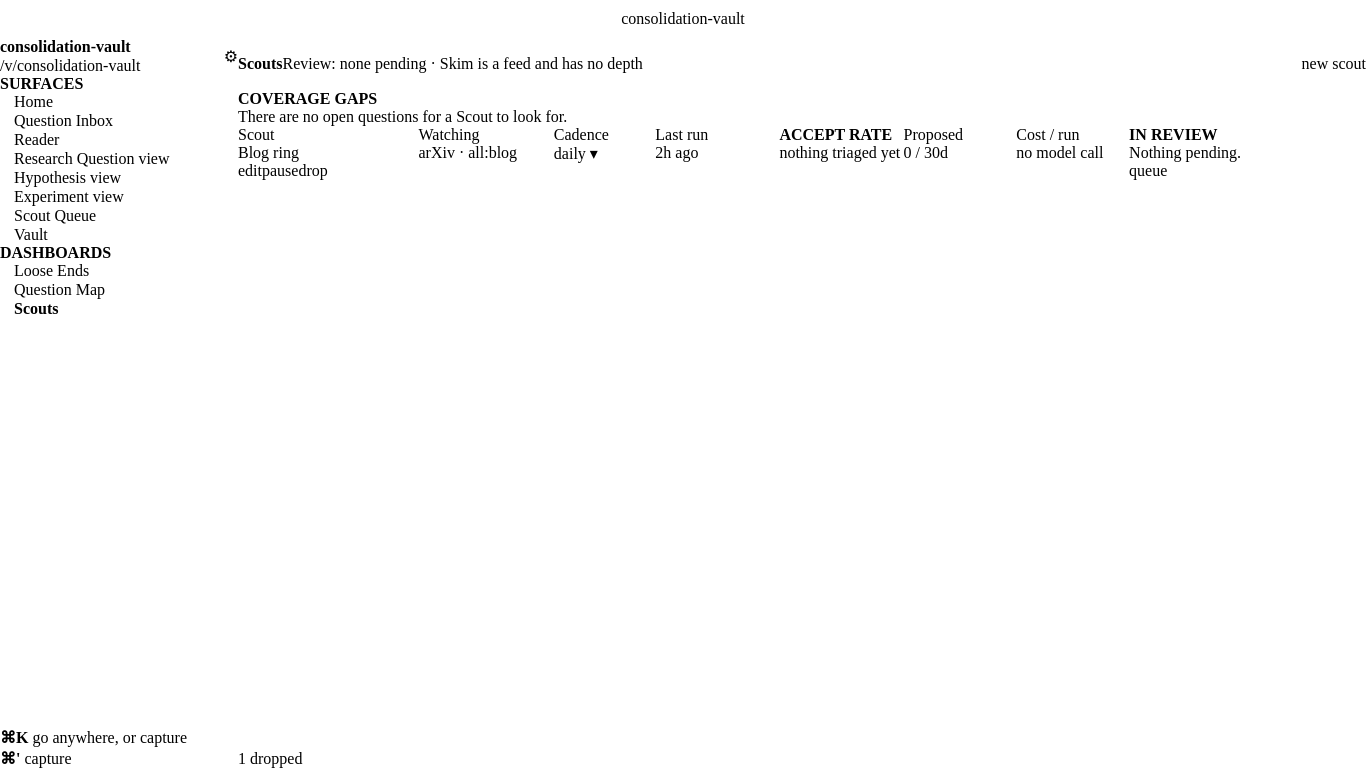
Test: Scouts screen — erase › says a failed write beside the Scout too, and still lists it
Expected: the table named "Scouts" is shown, [238,126,1365,180]
Click the button "1 dropped" at (270, 759), box [238,750,302,767]
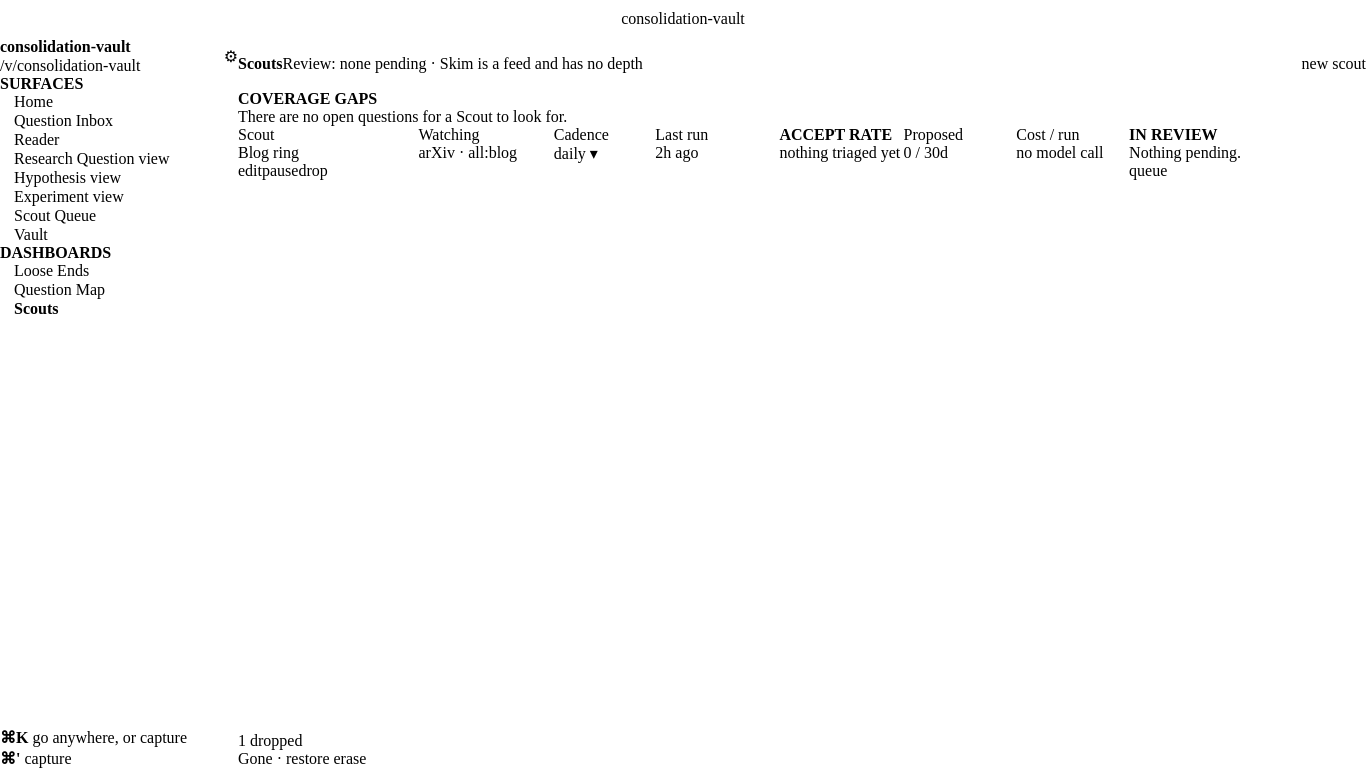
Click the button with aria-label "Gone: erase" at (350, 759), box [334,750,366,767]
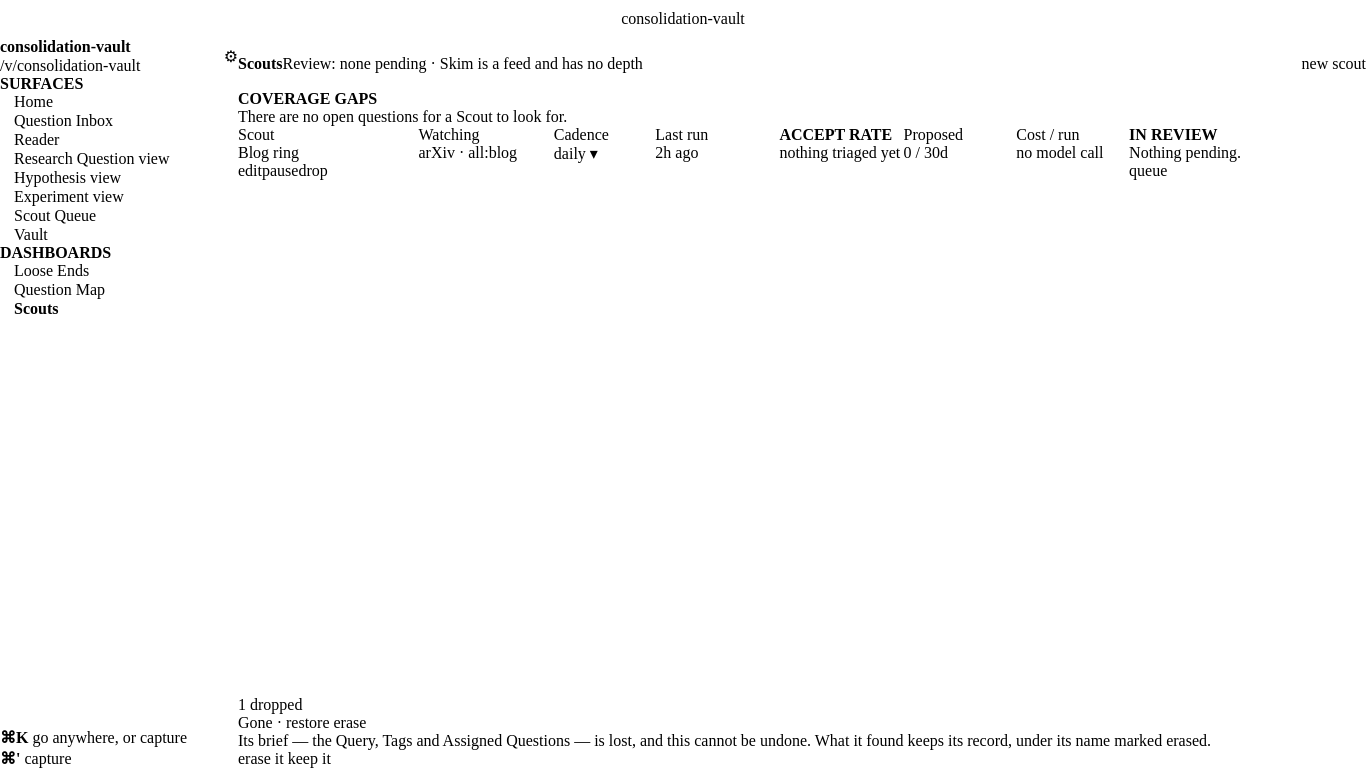
Click the button "erase it" at (261, 759), box [238,750,284,767]
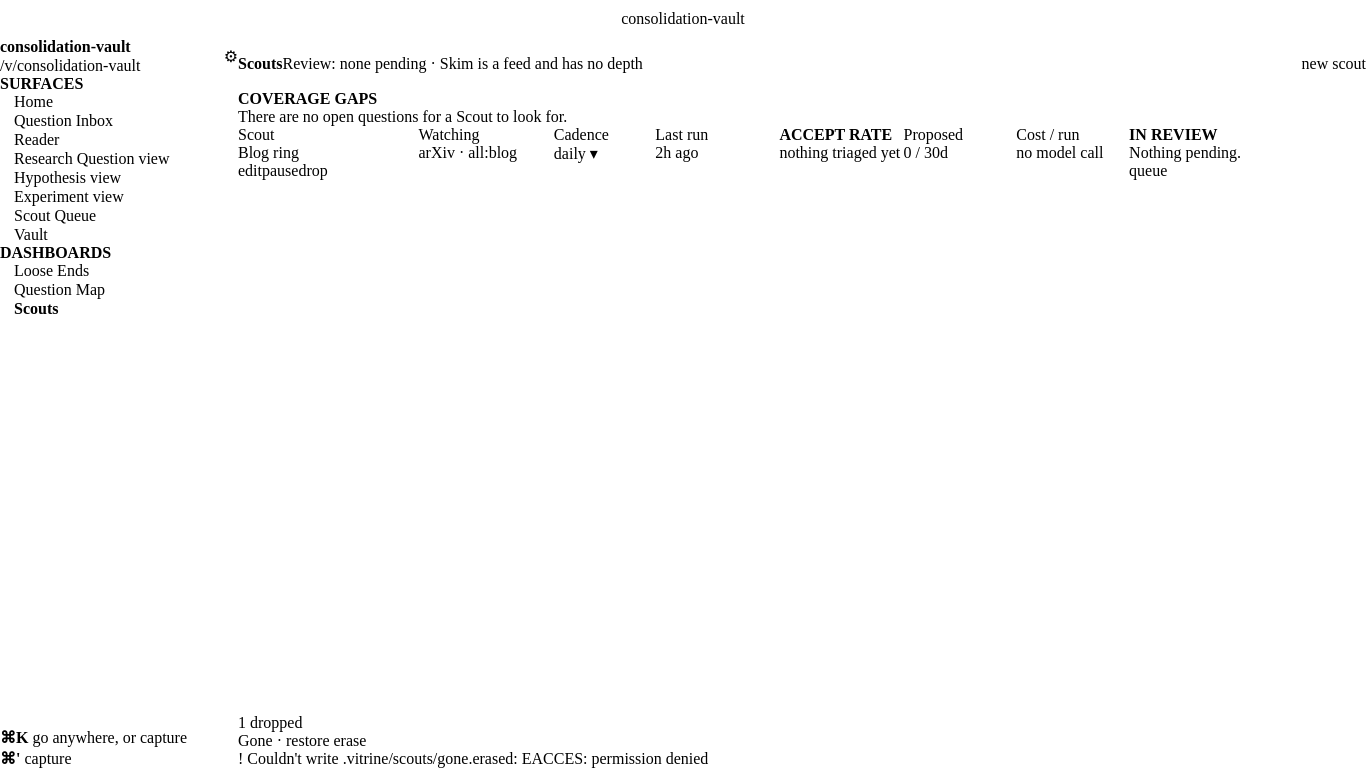
Expected: the button "1 dropped" is shown, [238,714,302,732]
Now the message shows "Couldn't write .vitrine/scouts/gone.erased: EACCES: permission denied", box [247,750,708,767]
